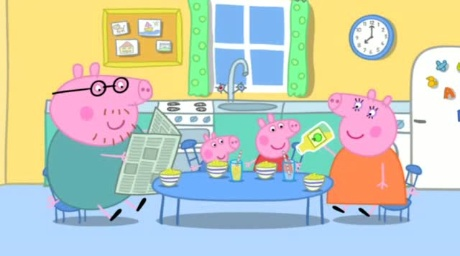Peppa: (248, 113, 300, 174)
